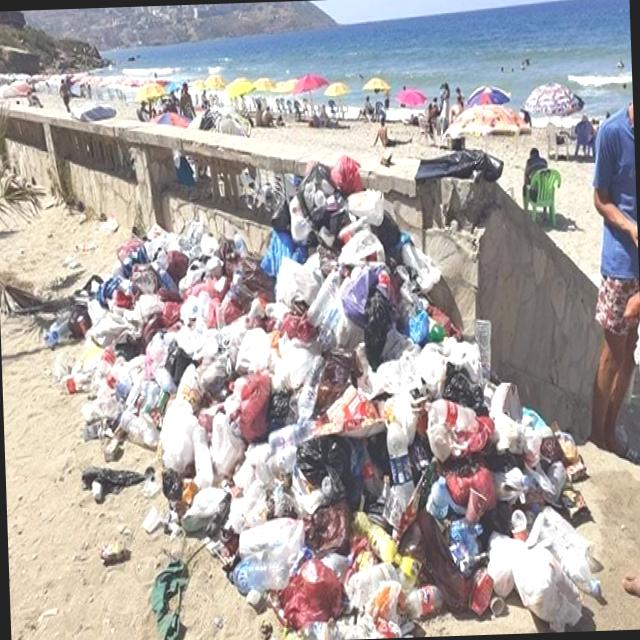garbage: (49, 152, 594, 640)
